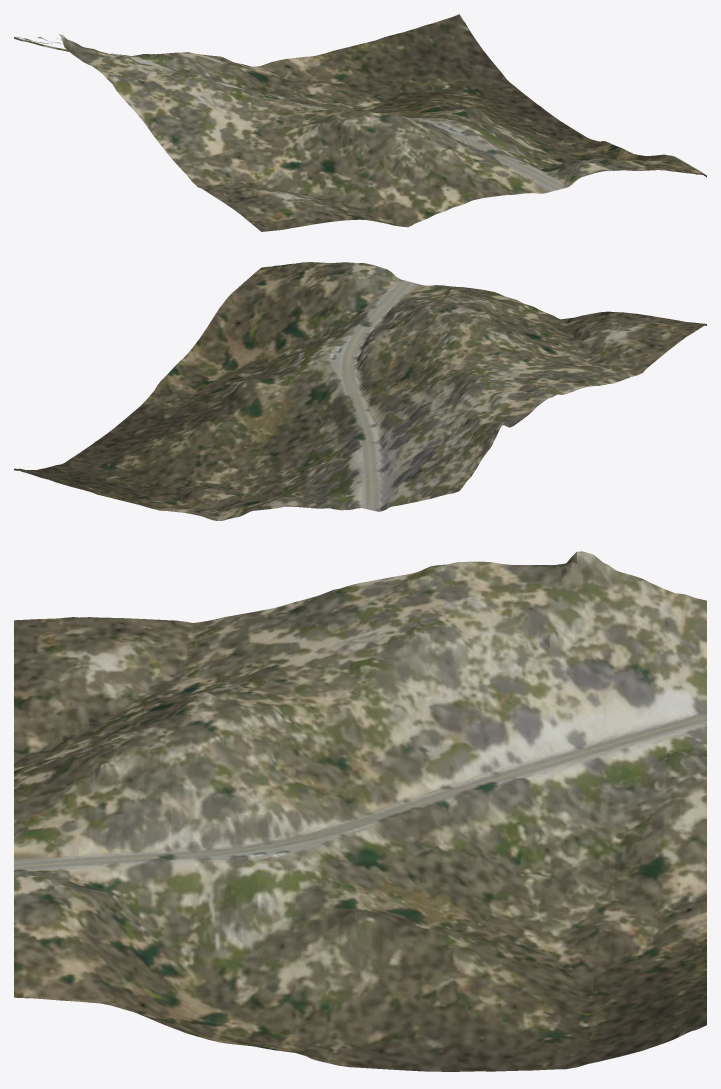
3 renders of one model, top to bottom at view 1: azimuth 30°, elevation 25°; view 2: azimuth 150°, elevation 25°; view 3: azimuth 270°, elevation 25°, orthographic. The views are drawn at different scales.
Bounding box in the file's own units: 250 × 83.84 × 241.
1 material, 1 textured.
